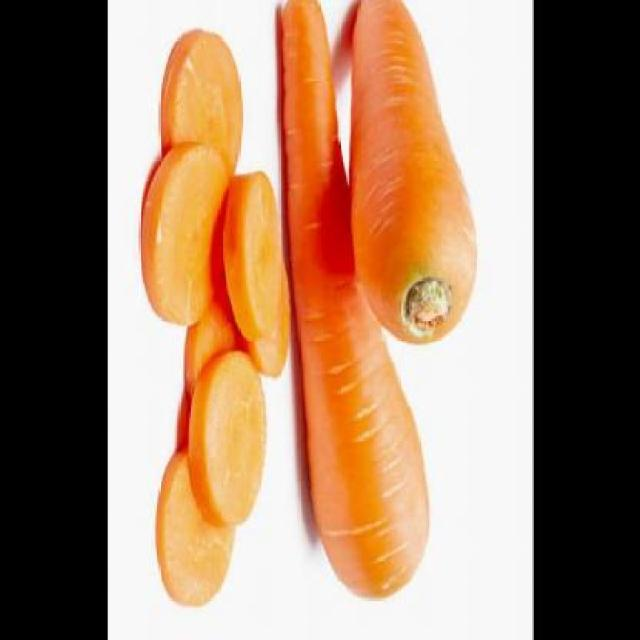carrot: (281, 0, 430, 603), (346, 0, 477, 346)
